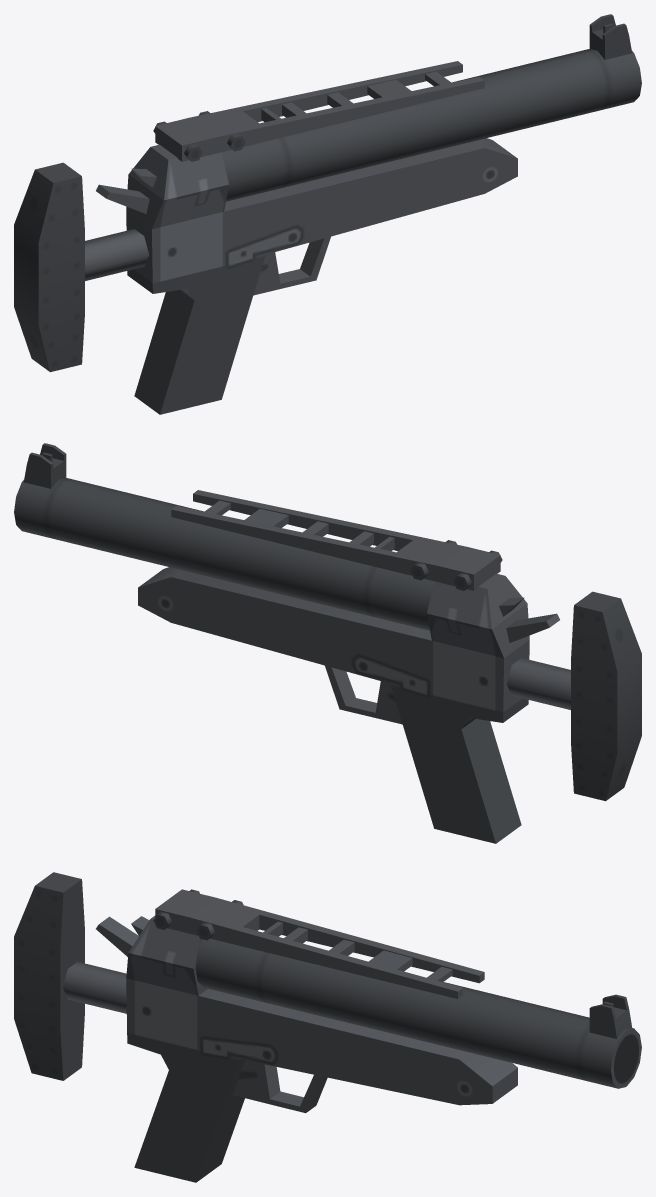
3 renders of one model, top to bottom at view 1: azimuth 30°, elevation 25°; view 2: azimuth 150°, elevation 25°; view 3: azimuth 330°, elevation 25°, orthographic.
Visible parts, largest first — view 1: HK69; view 2: HK69; view 3: HK69.
Boxes of the visible parts, box(x1,y1,x2,y2) form: HK69: box(14, 14, 641, 414); HK69: box(14, 443, 641, 843); HK69: box(14, 872, 641, 1182).
Size of the model in its own units: 82.61 by 35.63 by 8.48.
